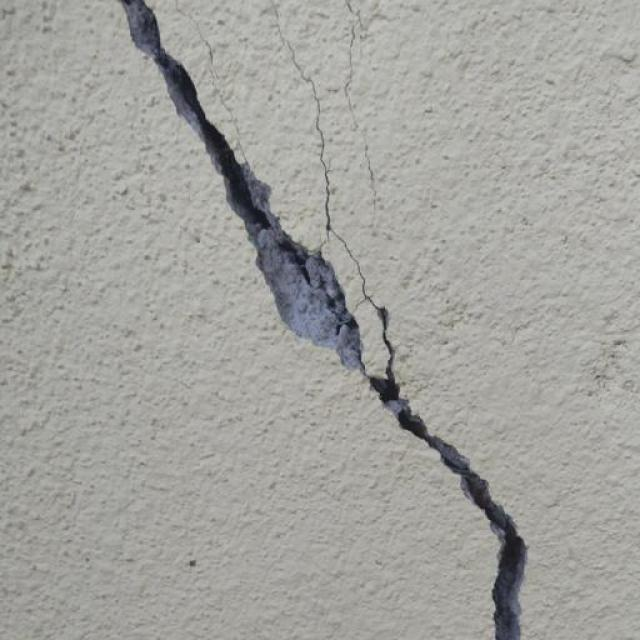crack: (77, 0, 621, 640)
crack_mold_damp_spalling_cor: (77, 0, 621, 640)
